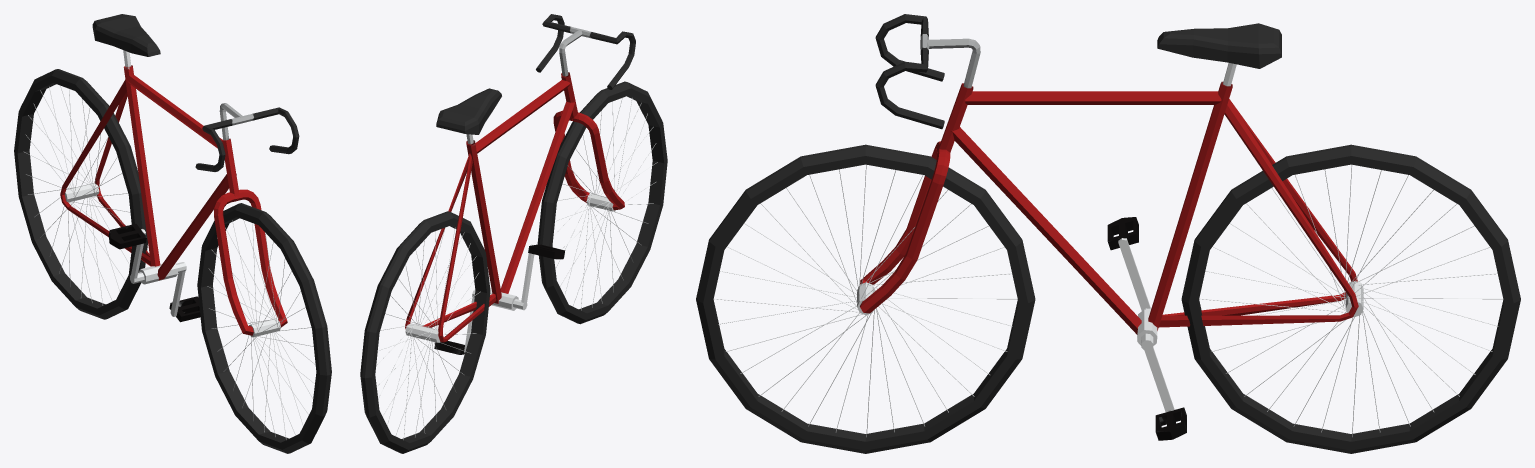
Rendered from Bici.fbx.
The picture shows the model from 3 angles, left to right: view 1: azimuth 30°, elevation 25°; view 2: azimuth 150°, elevation 25°; view 3: azimuth 270°, elevation 25°; orthographic projection. The views are drawn at different scales.
Visible parts, largest first — view 1: Struttura, RuotaAnteriore, RuotaPosteriore, Pedali, RaggiRuotaAnteriore, RaggiRuotaPosteriore, Sellino, Manubrio, CilindroRuotaPosteriore, CilindroRuotaAnteriore; view 2: Struttura, RuotaPosteriore, RuotaAnteriore, RaggiRuotaPosteriore, RaggiRuotaAnteriore, Sellino, Manubrio, Pedali, CilindroRuotaPosteriore, CilindroRuotaAnteriore; view 3: Struttura, RuotaPosteriore, RuotaAnteriore, RaggiRuotaPosteriore, RaggiRuotaAnteriore, Sellino, Pedali, Manubrio.
Boxes of the visible parts, <box> form: Struttura: <box>60,50,287,335</box>; RuotaAnteriore: <box>197,203,331,453</box>; RuotaPosteriore: <box>14,69,147,319</box>; Pedali: <box>108,223,200,322</box>; RaggiRuotaAnteriore: <box>207,219,315,439</box>; RaggiRuotaPosteriore: <box>23,85,130,305</box>; Sellino: <box>92,14,160,56</box>; Manubrio: <box>195,103,299,171</box>; CilindroRuotaPosteriore: <box>64,183,99,202</box>; CilindroRuotaAnteriore: <box>249,318,280,337</box>; Struttura: <box>405,72,624,342</box>; RuotaPosteriore: <box>360,211,490,453</box>; RuotaAnteriore: <box>537,81,667,324</box>; RaggiRuotaPosteriore: <box>376,227,480,439</box>; RaggiRuotaAnteriore: <box>553,98,657,310</box>; Sellino: <box>436,88,501,134</box>; Manubrio: <box>536,14,635,89</box>; Pedali: <box>434,244,565,354</box>; CilindroRuotaPosteriore: <box>405,323,440,342</box>; CilindroRuotaAnteriore: <box>586,193,615,211</box>; Struttura: <box>860,63,1358,334</box>; RuotaPosteriore: <box>1181,144,1520,453</box>; RuotaAnteriore: <box>696,144,1035,453</box>; RaggiRuotaPosteriore: <box>1200,165,1502,437</box>; RaggiRuotaAnteriore: <box>714,164,1017,437</box>; Sellino: <box>1157,23,1281,68</box>; Pedali: <box>1107,217,1186,440</box>; Manubrio: <box>875,14,980,129</box>.
Size of the model in its own units: 39.52 by 105 by 186.
